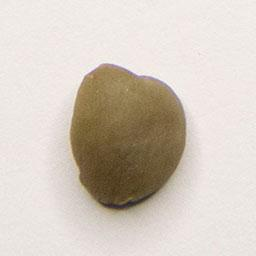premium: (67, 60, 189, 209)
